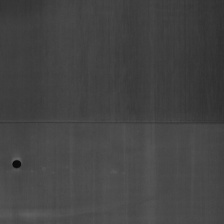punching_hole: (0, 117, 224, 129), (10, 153, 24, 173)
